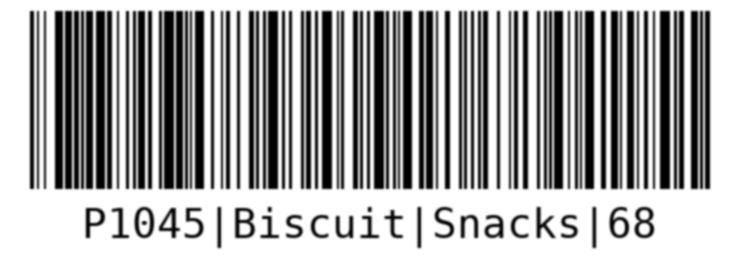milk: (25, 9, 714, 257)
